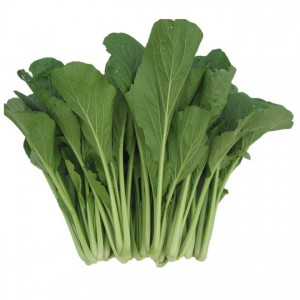Sawi: (12, 28, 279, 270)
